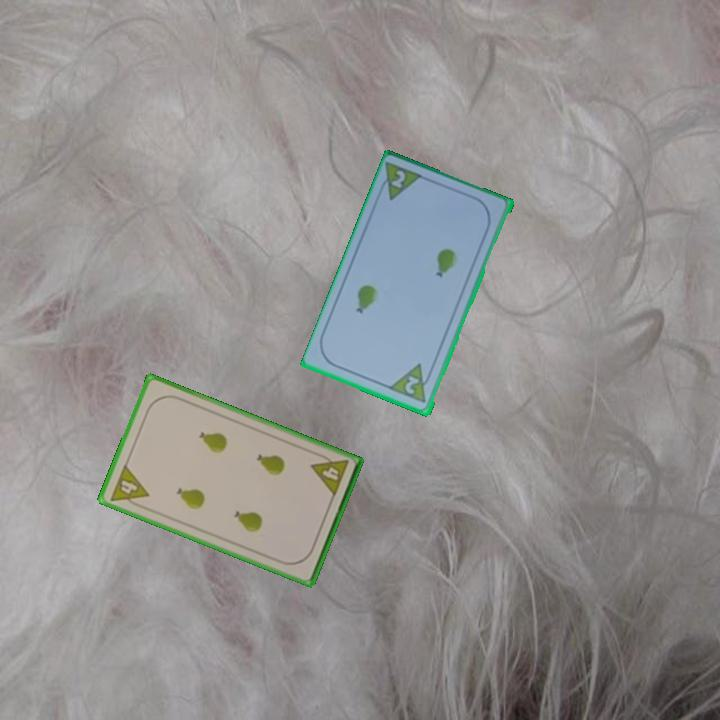2p: (374, 159, 427, 204), (401, 373, 422, 397)
4p: (106, 461, 152, 512), (307, 449, 351, 499)
